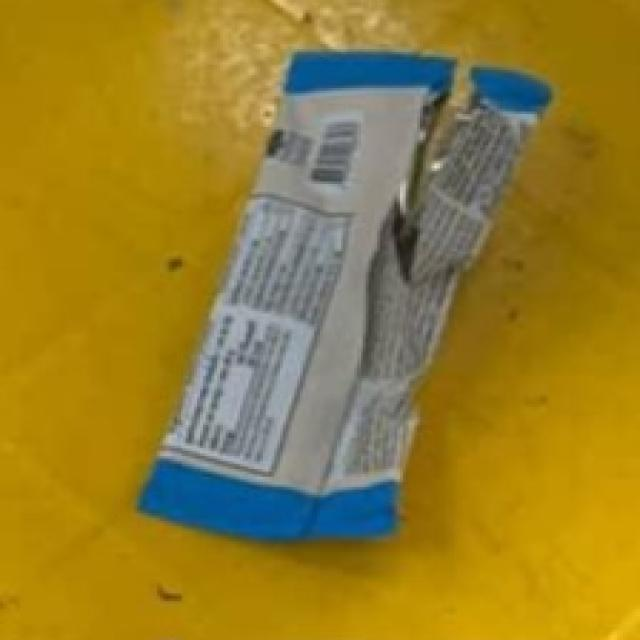plastic bag: (106, 0, 578, 544)
